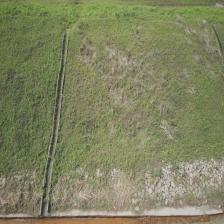rock toe: (134, 159, 224, 213)
slope drain: (40, 30, 69, 219)
toe drain: (0, 215, 224, 224)
